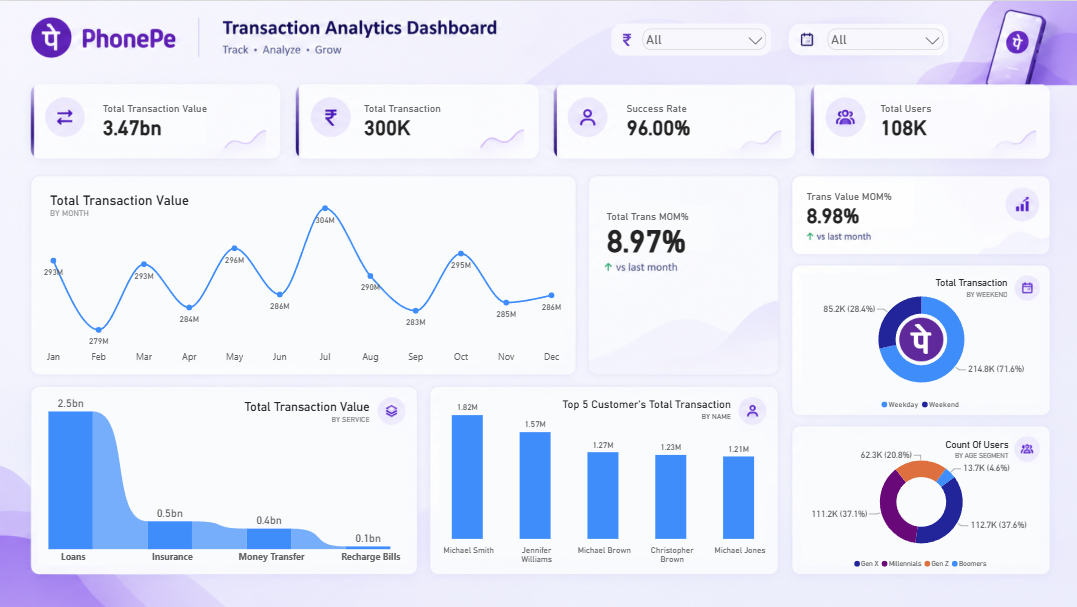

What the dashboard file says about the page in this screenshot:
{"tool":"powerbi","page":{"name":"Page 1","canvas":[1920,1080],"ordinal":0},"visuals":[{"type":"slicer","fields":{"Values":["Date_Table.Month"]},"box":[1465.6,44.4,215,47.2],"z":0},{"type":"cardVisual","fields":{"Data":["Measures (2).Total Transaction Value"]},"box":[167.5,145.6,232.5,135],"z":0,"group":"g1"},{"type":"cardVisual","fields":{"Data":["Measures (2).Total Transaction"]},"box":[632.5,145.6,232.5,135],"z":1000,"group":"g1"},{"type":"cardVisual","title":"efgew","fields":{"Data":["Measures (2).Total Trans MOM%"]},"box":[1061.7,269,340,295],"z":1000},{"type":"cardVisual","fields":{"Data":["Measures (2).Success Rate"]},"box":[1097.5,145.6,217.5,135],"z":2000,"group":"g1"},{"type":"cardVisual","fields":{"Data":["Measures (2).Trans Value MOM%"]},"box":[1418.3,296.7,452.5,145],"z":2000},{"type":"cardVisual","fields":{"Data":["Measures (2).Total Users"]},"box":[1550,145.6,190,135],"z":3000,"group":"g1"},{"type":"lineChart","fields":{"Category":["Date_Table.Month"],"Y":["Measures (2).Total Transaction Value"]},"box":[46,340,982,324],"z":3000},{"type":"columnChart","fields":{"Category":["All_Transactions.Service"],"Y":["Measures (2).Total Transaction Value"]},"box":[16,676,758,330],"z":4000},{"type":"donutChart","fields":{"Category":["All_Users.Age Segment"],"Y":["CountNonNull(All_Transactions.User_ID)"]},"box":[1429.3,795.7,417.9,219.3],"z":5000},{"type":"donutChart","fields":{"Category":["Date_Table.Weekend"],"Y":["Measures (2).Total Transaction"]},"box":[1446.9,502.3,382.8,229.7],"z":6000},{"type":"columnChart","fields":{"Category":["All_Users.Name"],"Y":["Measures (2).Total Transaction Value"]},"box":[720,702,674,302],"z":7000},{"type":"group","id":"g1","title":"Group 1","box":[167.5,145.6,1572.5,135],"z":8000},{"type":"textbox","box":[88,340,326,150],"z":10000},{"type":"textbox","box":[370,708,286,150],"z":11000},{"type":"textbox","box":[932.4,705.9,366.2,150],"z":12000},{"type":"textbox","box":[1557,491,233.1,50],"z":13000},{"type":"textbox","box":[1560,777,233,150],"z":14000},{"type":"slicer","fields":{"Values":["Date_Table.Month"]},"box":[2525.9,91.4,215,47.2],"z":14001},{"type":"slicer","fields":{"Values":["All_Transactions.Payment_Status"]},"box":[1137.8,44.4,228.9,46.7],"z":14002}]}

Visuals, with their boxes in screenshot pixels (x1, y1, x2, y2), scaled from the page's 1920x1080 canvas onto the 1077x607 screenshot:
slicer - Date_Table.Month: left=822, top=25, right=943, bottom=51
cardVisual - Measures (2).Total Transaction Value: left=94, top=82, right=224, bottom=158
cardVisual - Measures (2).Total Transaction: left=355, top=82, right=485, bottom=158
"efgew" cardVisual: left=596, top=151, right=786, bottom=317
cardVisual - Measures (2).Success Rate: left=616, top=82, right=738, bottom=158
cardVisual - Measures (2).Trans Value MOM%: left=796, top=167, right=1049, bottom=248
cardVisual - Measures (2).Total Users: left=869, top=82, right=976, bottom=158
lineChart - Date_Table.Month x Measures (2).Total Transaction Value: left=26, top=191, right=577, bottom=373
columnChart - All_Transactions.Service x Measures (2).Total Transaction Value: left=9, top=380, right=434, bottom=565
donutChart - All_Users.Age Segment x CountNonNull(All_Transactions.User_ID): left=802, top=447, right=1036, bottom=570
donutChart - Date_Table.Weekend x Measures (2).Total Transaction: left=812, top=282, right=1026, bottom=411
columnChart - All_Users.Name x Measures (2).Total Transaction Value: left=404, top=395, right=782, bottom=564
"Group 1" group: left=94, top=82, right=976, bottom=158
textbox: left=49, top=191, right=232, bottom=275
textbox: left=208, top=398, right=368, bottom=482
textbox: left=523, top=397, right=728, bottom=481
textbox: left=873, top=276, right=1004, bottom=304
textbox: left=875, top=437, right=1006, bottom=521
slicer - All_Transactions.Payment_Status: left=638, top=25, right=767, bottom=51
